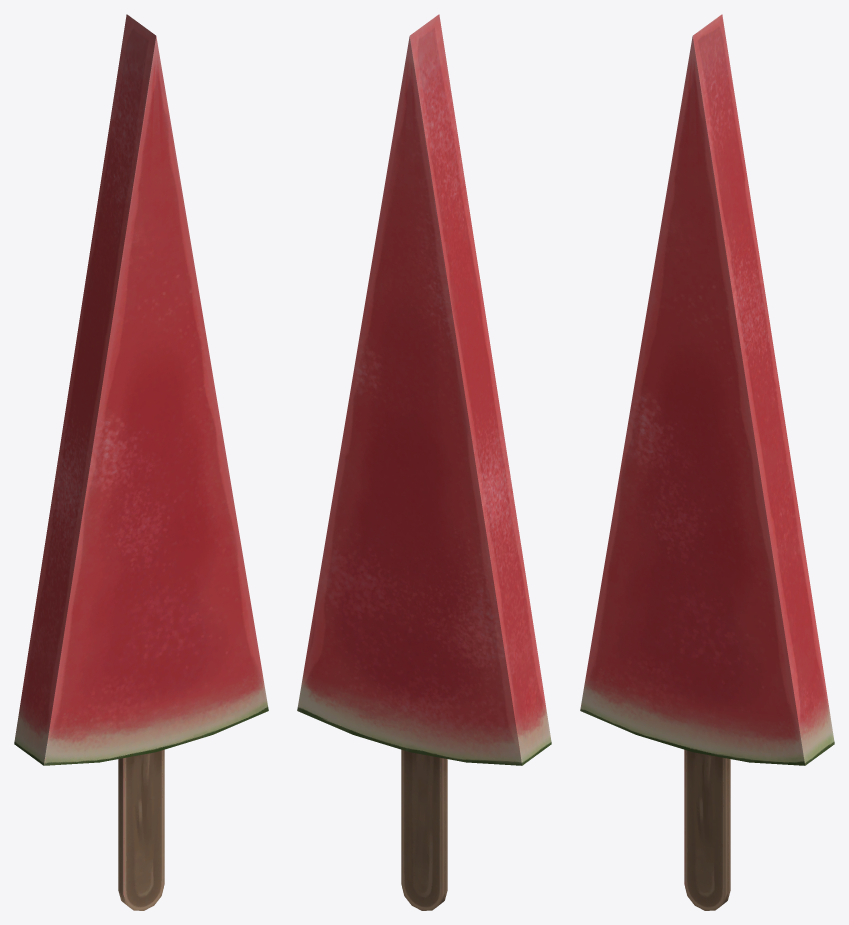
Rendered from sword1.glb.
3 renders of one model, left to right at view 1: azimuth 30°, elevation 25°; view 2: azimuth 150°, elevation 25°; view 3: azimuth 330°, elevation 25°, orthographic.
Visible parts, largest first — view 1: sword1; view 2: sword1; view 3: sword1.
Boxes of the visible parts, <box> form: sword1: <box>14,14,268,910</box>; sword1: <box>297,14,551,910</box>; sword1: <box>580,14,834,910</box>.
Size of the model in its own units: 0.1644 by 0.6171 by 0.0375.
1 material, 1 textured.
